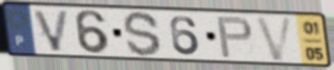6: (73, 9, 112, 56), (168, 15, 202, 57)
P: (215, 16, 255, 60)
S: (121, 9, 164, 58)
V: (253, 15, 297, 63), (31, 8, 72, 53)
